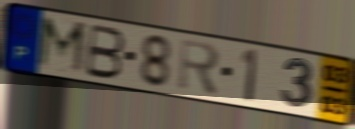1: (239, 47, 259, 105)
3: (278, 56, 314, 111)
8: (138, 33, 174, 89)
B: (82, 22, 127, 82)
M: (34, 14, 89, 79)
R: (176, 36, 223, 100)
